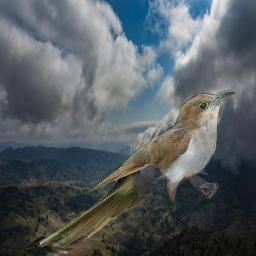Cuckoo: (38, 90, 236, 248)
